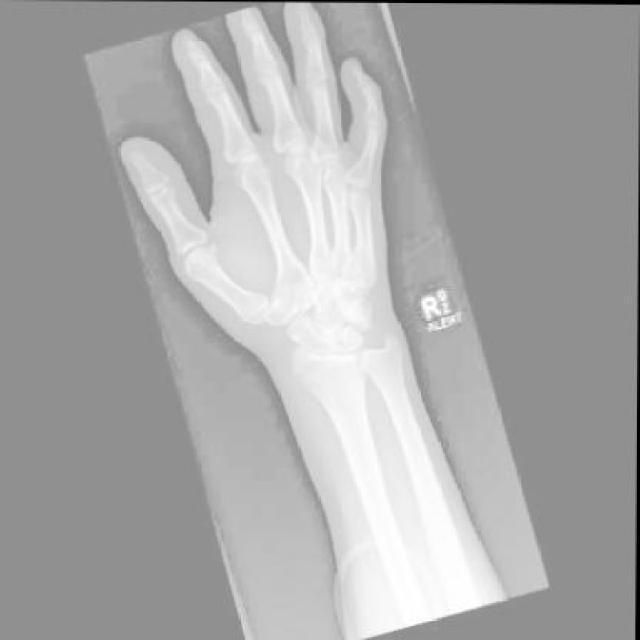Fracture: (288, 340, 350, 391), (346, 297, 380, 331)
